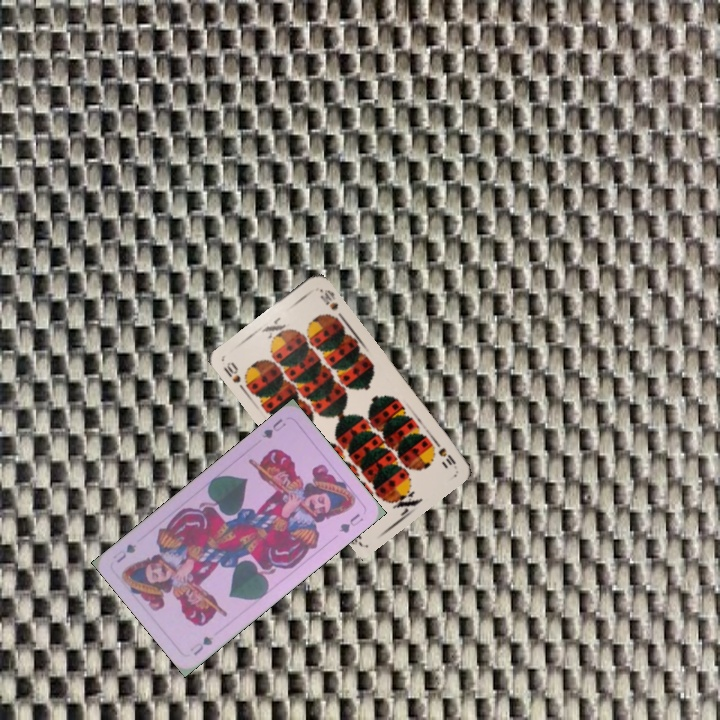GU: (258, 414, 289, 441), (186, 632, 216, 658)
S10: (219, 357, 251, 395), (429, 435, 459, 470)
